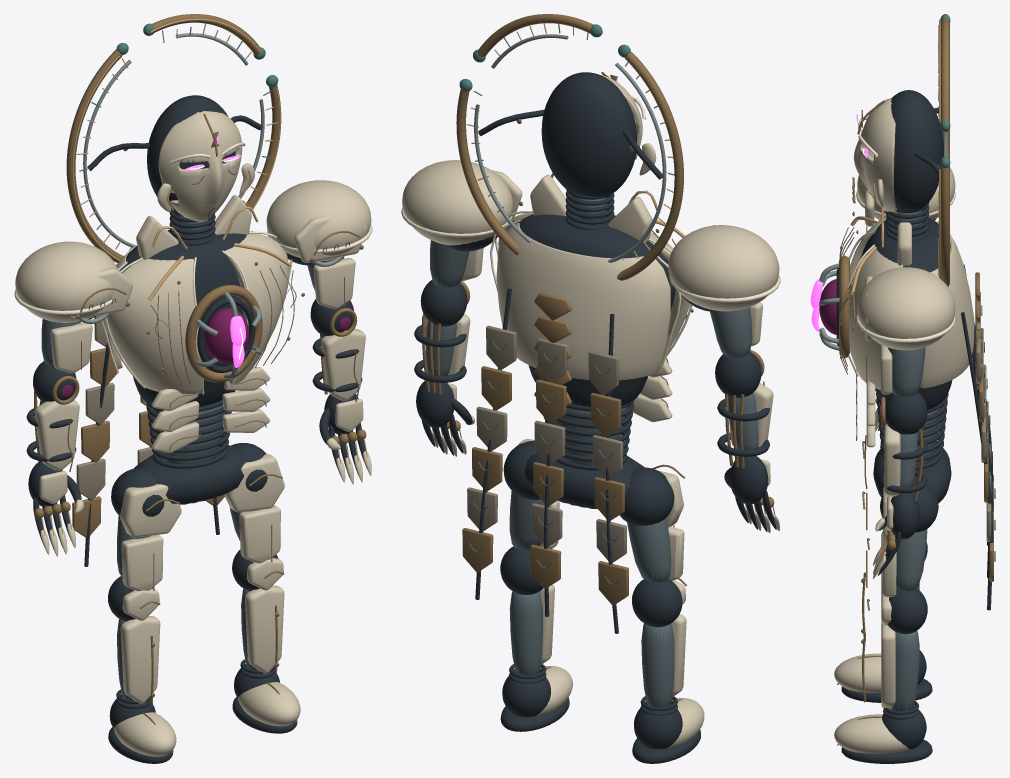
Rendered from pale-warden.glb.
The picture shows the model from 3 angles, left to right: view 1: azimuth 30°, elevation 25°; view 2: azimuth 150°, elevation 25°; view 3: azimuth 270°, elevation 25°; orthographic projection. The views are drawn at different scales.
Visible parts, largest first — view 1: body • aged ivory ceramic, leftArm • aged ivory ceramic, rightArm • aged ivory ceramic, body • midnight mechanical sinew, head • aged ivory ceramic, leftKnee • aged ivory ceramic, rightKnee • aged ivory ceramic, head • patinated bronze, leftLeg • aged ivory ceramic, head • midnight mechanical sinew, rightLeg • aged ivory ceramic, body • patinated bronze (+20 smaller); view 2: body • aged ivory ceramic, head • midnight mechanical sinew, cloak • patinated bronze, cloak • fired ochre underside, body • midnight mechanical sinew, leftArm • aged ivory ceramic, rightArm • aged ivory ceramic, head • patinated bronze, rightArm • midnight mechanical sinew, leftArm • midnight mechanical sinew, leftKnee • midnight mechanical sinew, rightKnee • midnight mechanical sinew (+20 smaller); view 3: rightArm • aged ivory ceramic, body • aged ivory ceramic, head • midnight mechanical sinew, body • midnight mechanical sinew, rightKnee • midnight mechanical sinew, rightArm • midnight mechanical sinew, rightKnee • aged ivory ceramic, head • aged ivory ceramic, head • patinated bronze, rightArm • old titanium internals, body • patinated bronze, rightKnee • old titanium internals (+17 smaller).
Part boxes in pixels (bbox=[...]): body • aged ivory ceramic: bbox=[105, 195, 289, 453]; leftArm • aged ivory ceramic: bbox=[15, 241, 132, 556]; rightArm • aged ivory ceramic: bbox=[266, 180, 371, 484]; body • midnight mechanical sinew: bbox=[119, 229, 304, 504]; head • aged ivory ceramic: bbox=[157, 111, 254, 221]; leftKnee • aged ivory ceramic: bbox=[114, 588, 176, 756]; rightKnee • aged ivory ceramic: bbox=[238, 558, 300, 726]; head • patinated bronze: bbox=[66, 14, 281, 262]; leftLeg • aged ivory ceramic: bbox=[120, 484, 181, 591]; head • midnight mechanical sinew: bbox=[87, 95, 262, 245]; rightLeg • aged ivory ceramic: bbox=[224, 454, 284, 563]; body • patinated bronze: bbox=[146, 262, 304, 450]; body • aged ivory ceramic: bbox=[496, 174, 689, 422]; head • midnight mechanical sinew: bbox=[478, 72, 662, 229]; cloak • patinated bronze: bbox=[462, 366, 628, 605]; cloak • fired ochre underside: bbox=[467, 325, 626, 562]; body • midnight mechanical sinew: bbox=[517, 214, 675, 509]; leftArm • aged ivory ceramic: bbox=[668, 225, 779, 533]; rightArm • aged ivory ceramic: bbox=[402, 160, 522, 456]; head • patinated bronze: bbox=[456, 14, 683, 280]; rightArm • midnight mechanical sinew: bbox=[414, 235, 497, 455]; leftArm • midnight mechanical sinew: bbox=[682, 295, 776, 531]; leftKnee • midnight mechanical sinew: bbox=[632, 579, 700, 763]; rightKnee • midnight mechanical sinew: bbox=[500, 546, 569, 731]; rightArm • aged ivory ceramic: bbox=[857, 267, 955, 578]; body • aged ivory ceramic: bbox=[849, 216, 974, 447]; head • midnight mechanical sinew: bbox=[874, 90, 943, 241]; body • midnight mechanical sinew: bbox=[836, 218, 952, 503]; rightKnee • midnight mechanical sinew: bbox=[841, 588, 932, 763]; rightArm • midnight mechanical sinew: bbox=[852, 303, 927, 575]; rightKnee • aged ivory ceramic: bbox=[834, 592, 909, 753]; head • aged ivory ceramic: bbox=[853, 98, 897, 213]; head • patinated bronze: bbox=[857, 17, 949, 286]; rightArm • old titanium internals: bbox=[887, 347, 925, 494]; body • patinated bronze: bbox=[838, 227, 979, 440]; rightKnee • old titanium internals: bbox=[890, 630, 919, 711].
Bounding box in the file's own units: 2.14 × 4.12 × 0.9948.
